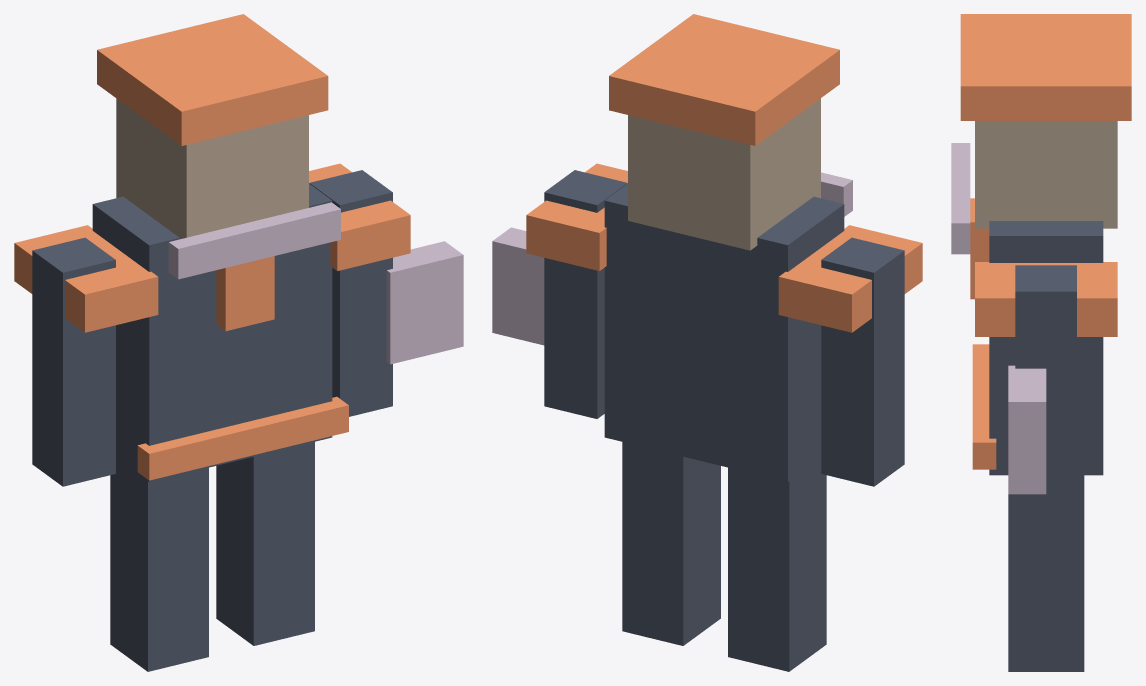
The model's file is 15_orin_emberkin_runner_from_climber.glb.
3 views of the same model, side by side, from view 1: azimuth 30°, elevation 25°; view 2: azimuth 150°, elevation 25°; view 3: azimuth 270°, elevation 25° (orthographic).
Visible parts, largest first — view 1: Orin Emberkin, Runner from Climber; view 2: Orin Emberkin, Runner from Climber; view 3: Orin Emberkin, Runner from Climber.
Part boxes in pixels (<box>): Orin Emberkin, Runner from Climber: <box>14,14,463,671</box>; Orin Emberkin, Runner from Climber: <box>492,14,922,671</box>; Orin Emberkin, Runner from Climber: <box>951,14,1131,671</box>.
Size of the model in its own units: 1.06 by 1.46 by 0.4125.
